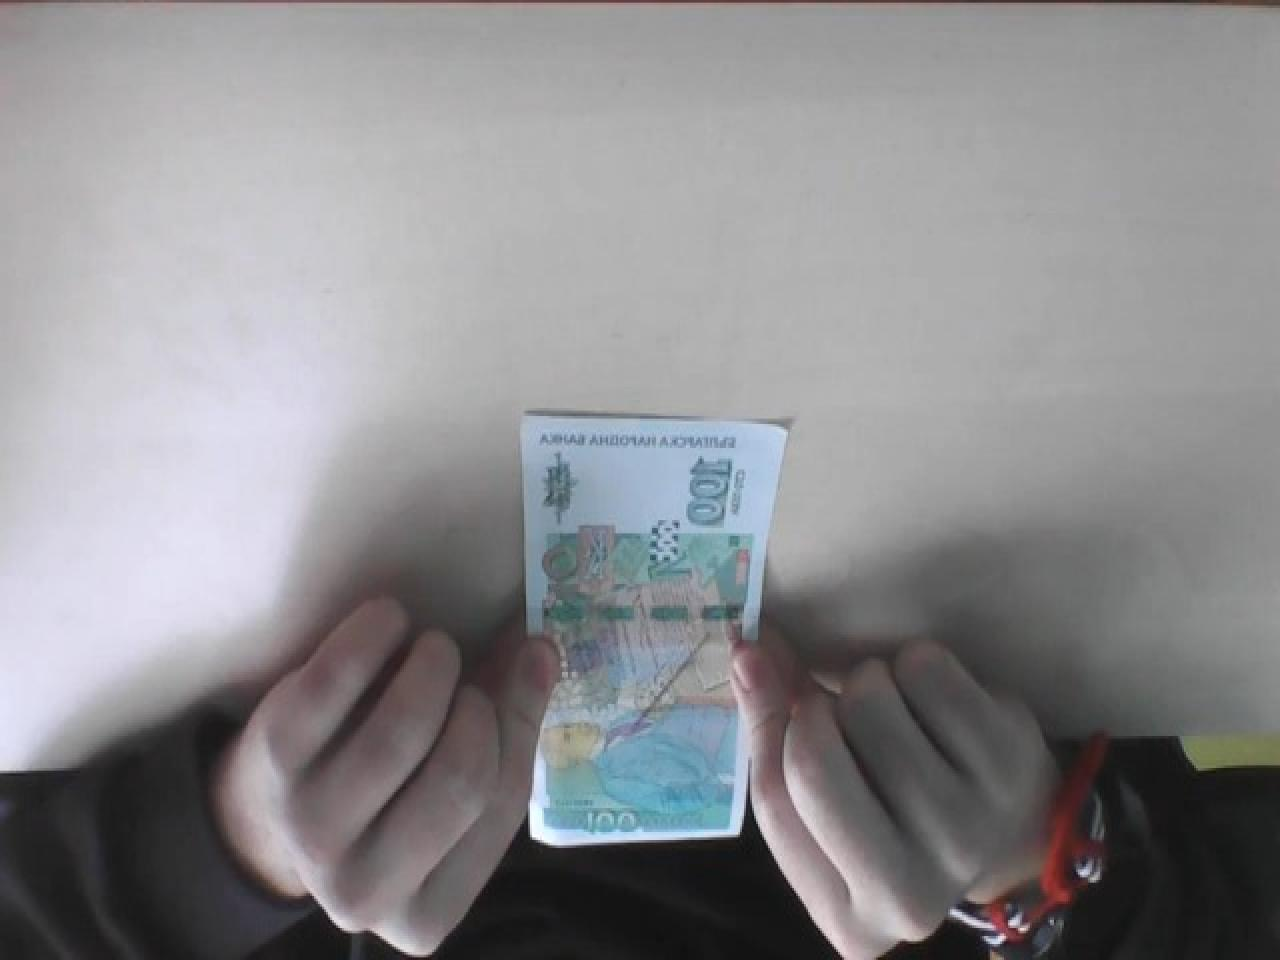100leva: (518, 405, 794, 845)
